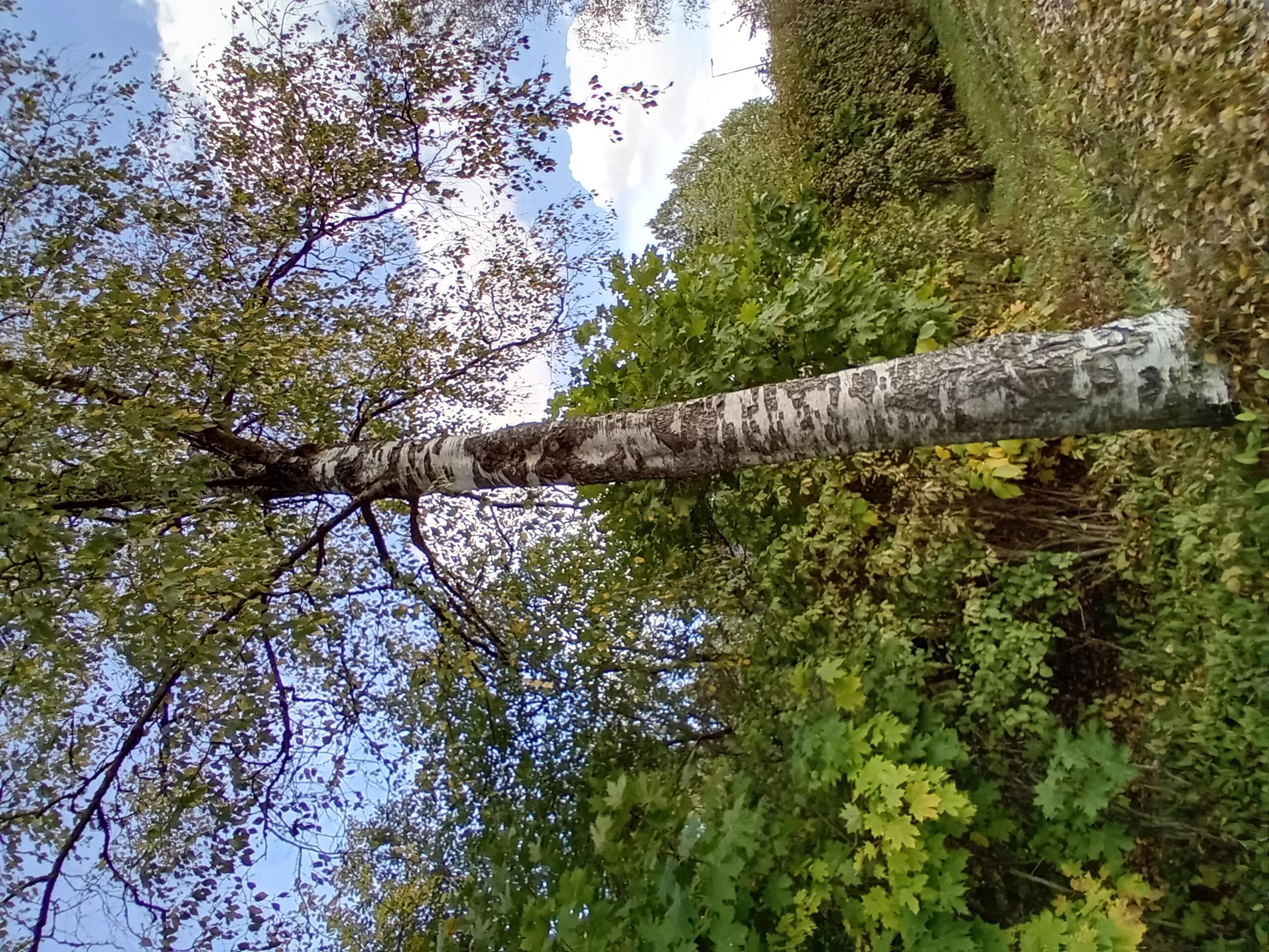Birch: (1, 0, 1267, 929), (270, 0, 1127, 924)
